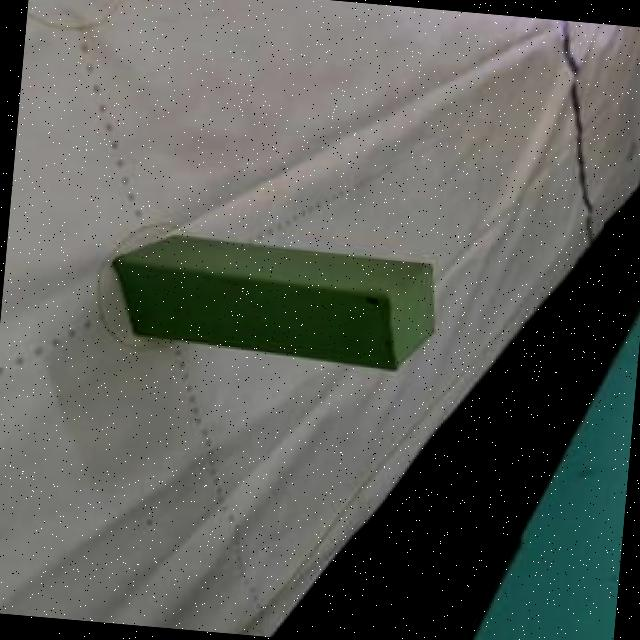greenbox: (97, 227, 444, 378)
